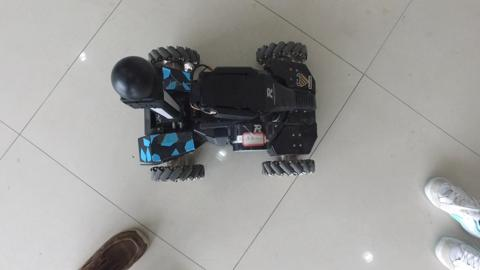chariot: (110, 49, 331, 192)
